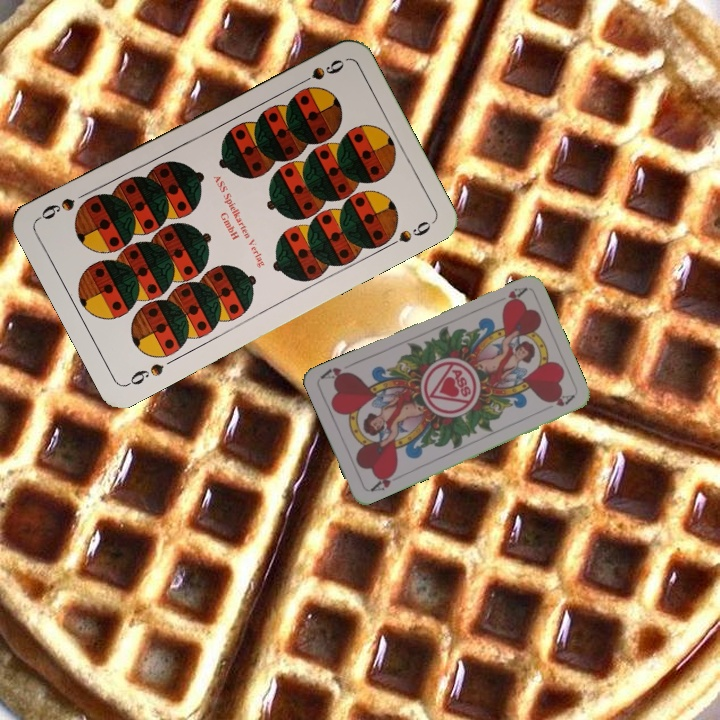HA: (366, 467, 399, 494), (500, 284, 529, 309)
S9: (292, 55, 347, 89), (123, 359, 167, 389)
